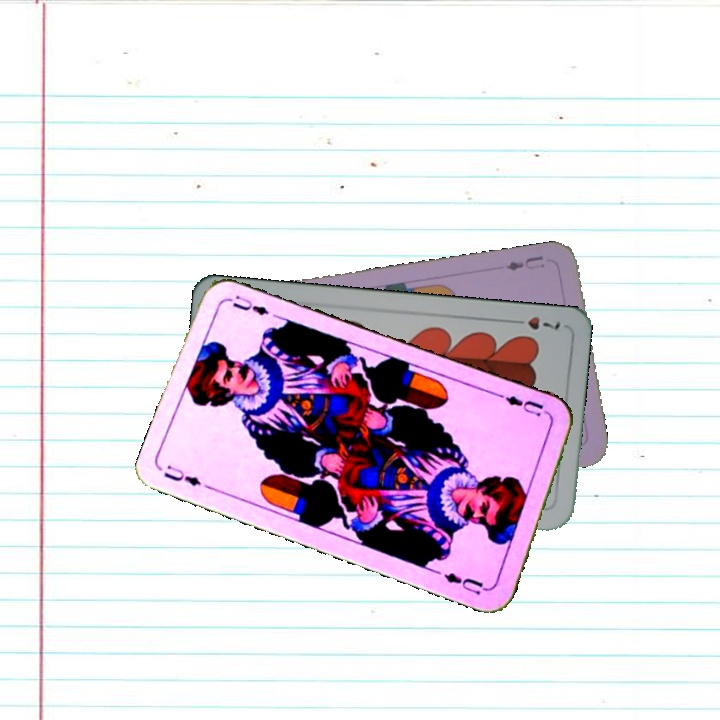EU: (495, 391, 554, 423), (160, 460, 204, 489), (496, 251, 547, 273)
H7: (506, 312, 563, 333)
